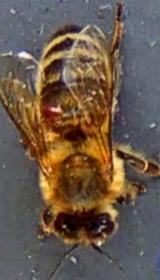varroa_mite: (31, 93, 70, 127)
